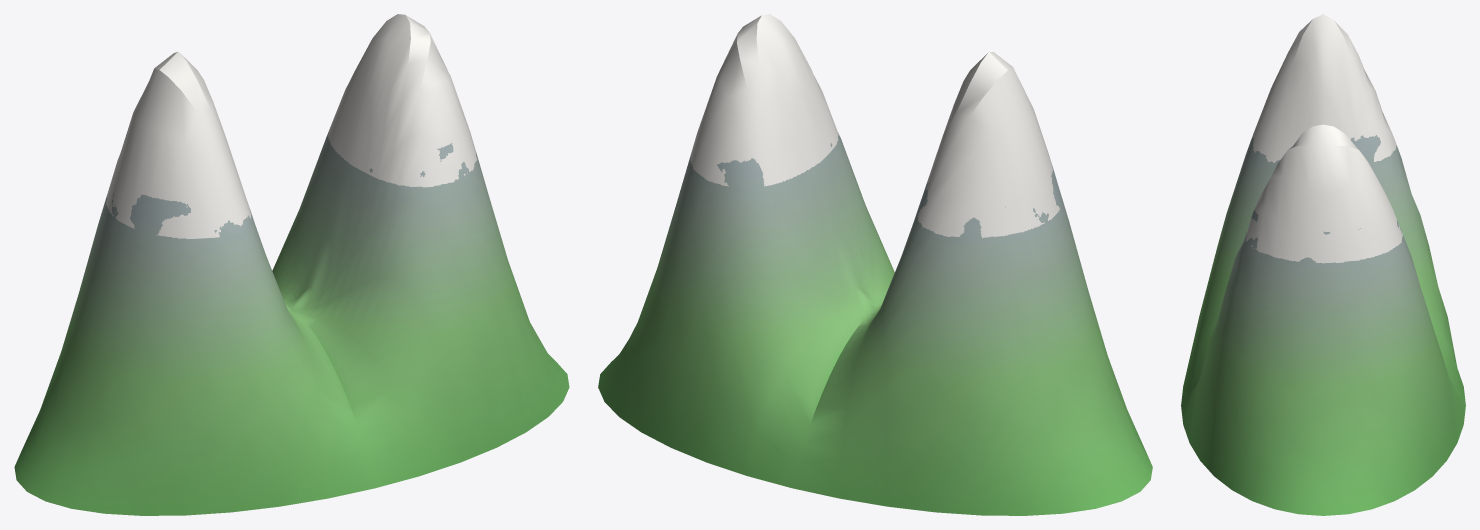
The model's file is hill_b.fbx.
3 renders of one model, left to right at view 1: azimuth 30°, elevation 25°; view 2: azimuth 150°, elevation 25°; view 3: azimuth 270°, elevation 25°, orthographic. The views are drawn at different scales.
Visible parts, largest first — view 1: hill_b; view 2: hill_b; view 3: hill_b.
Boxes of the visible parts, <box> form: hill_b: <box>14,14,569,515</box>; hill_b: <box>598,14,1152,515</box>; hill_b: <box>1181,14,1465,515</box>.
Bounding box in the file's own units: 22000 × 16000 × 12000.
Materials: 1 (1 with a texture image).
